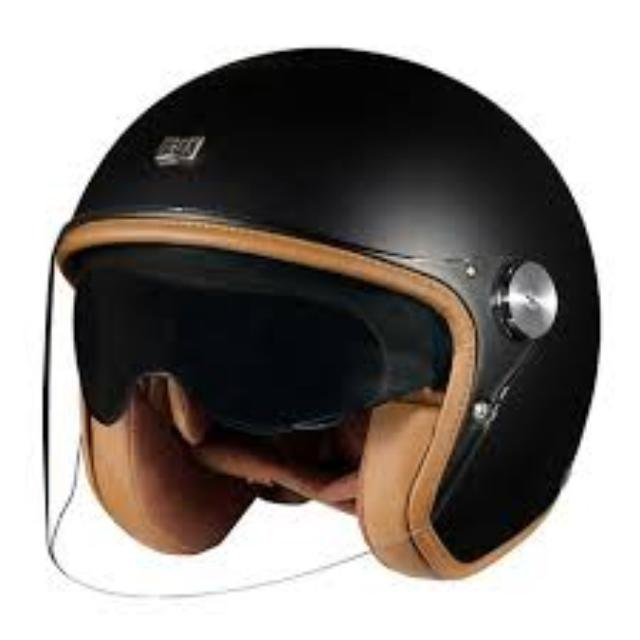motorcycle-helmets: (29, 40, 595, 598)
